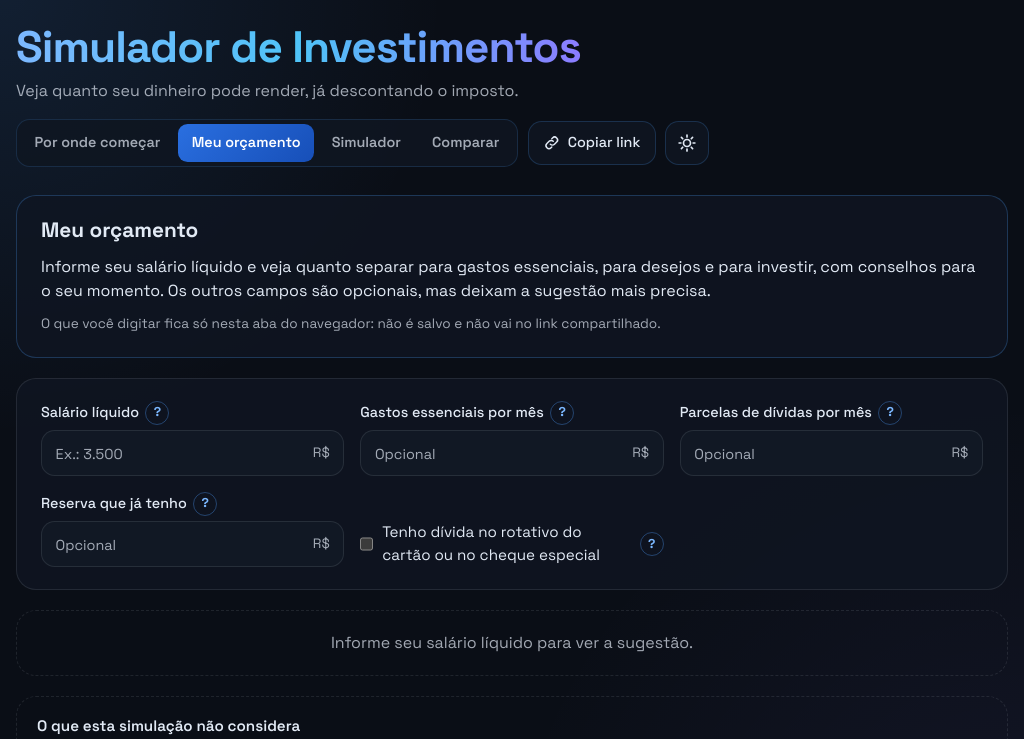
os campos opcionais personalizam o conselho
Type "5.000" into the field labelled "Salário líquido".
click(177, 453); type("5.000")  # box [42,432,313,475]
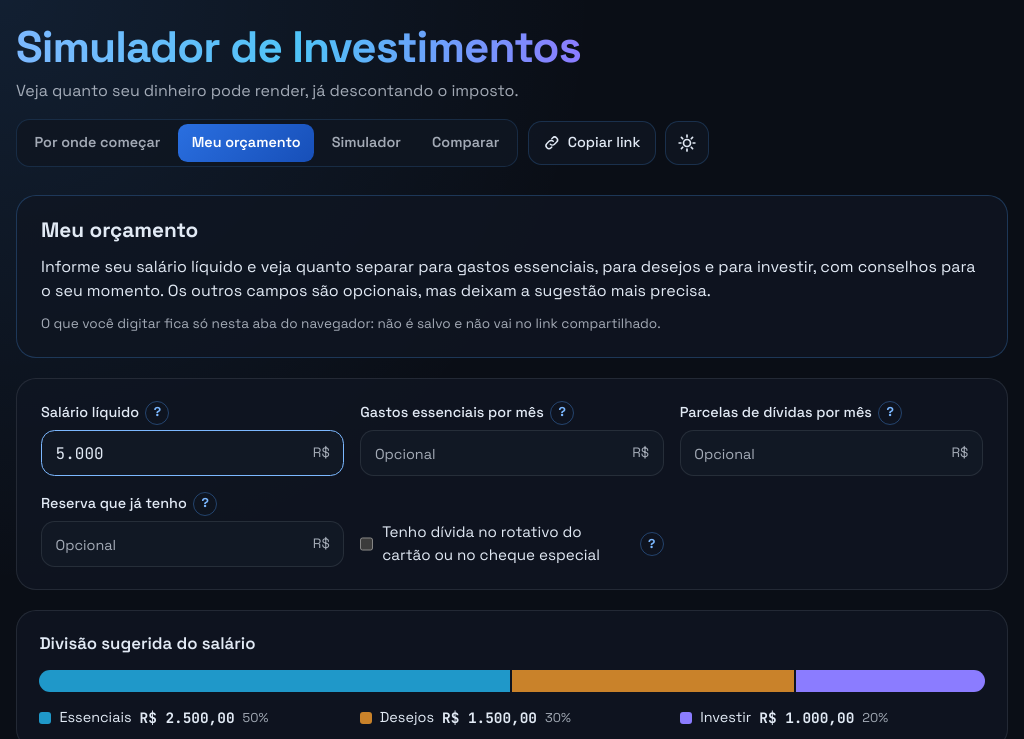
Type "3.500" into the field labelled "Gastos essenciais por mês".
click(497, 453); type("3.500")  # box [361,432,632,475]
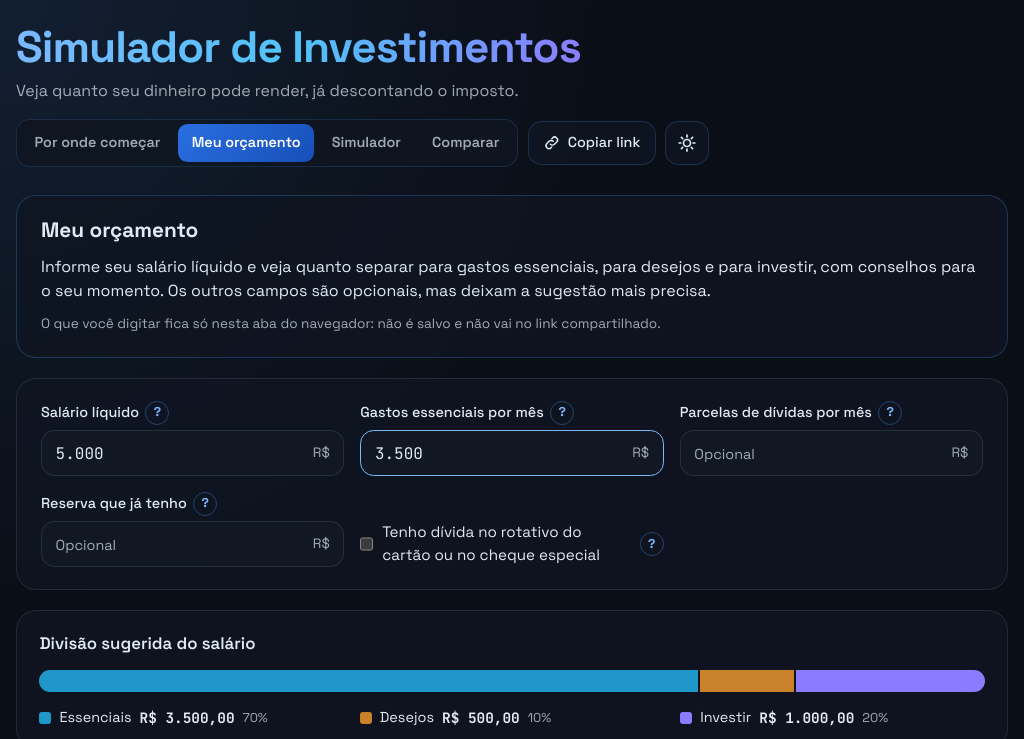
Click the checkbox labelled "Tenho dívida no rotativo do cartão ou no cheque especial".
click(367, 544)  # box [360,535,373,553]
(page scrolled)
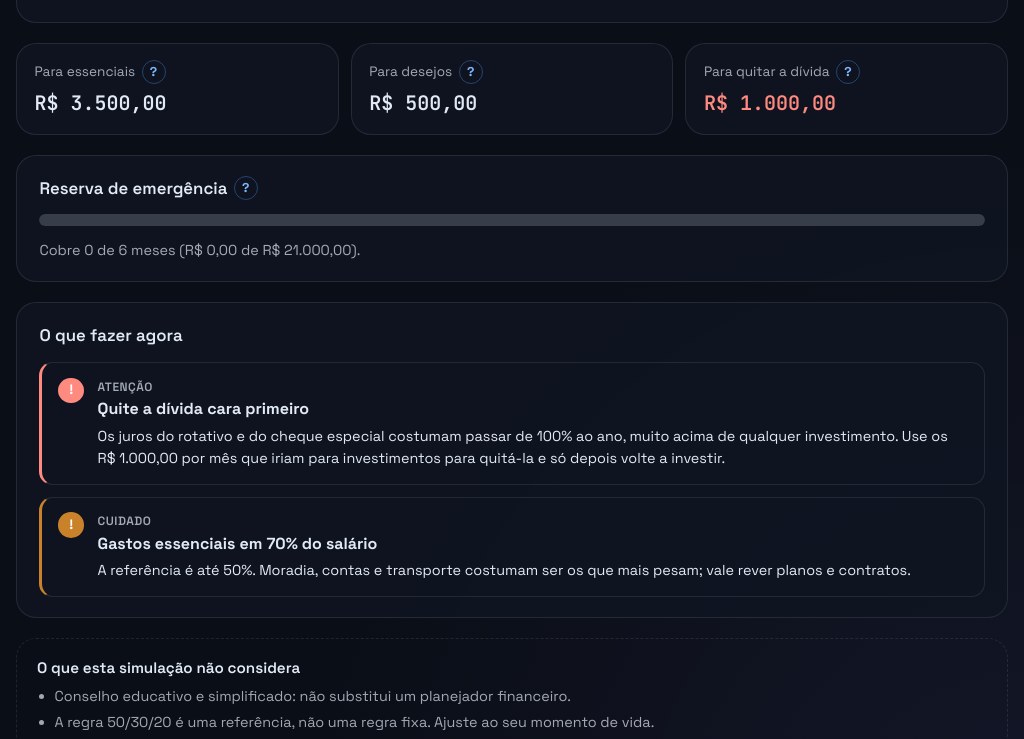
Now the list item that starts with "Atenção" shows "Quite a dívida cara primeiro", box [98,398,309,419]
